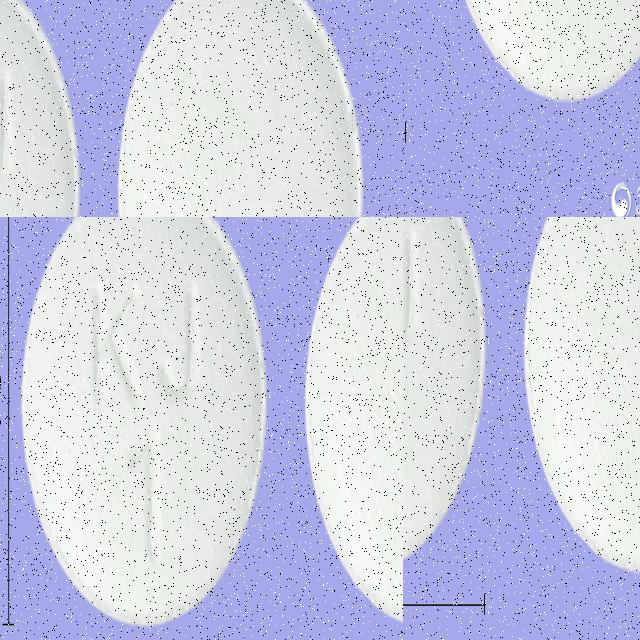Lebofacin: (403, 0, 461, 217)
Levocacin: (521, 217, 640, 574), (403, 217, 486, 572)
Proxacinby Tab: (119, 0, 362, 217)
Tivicay Tab: (174, 457, 335, 640)
